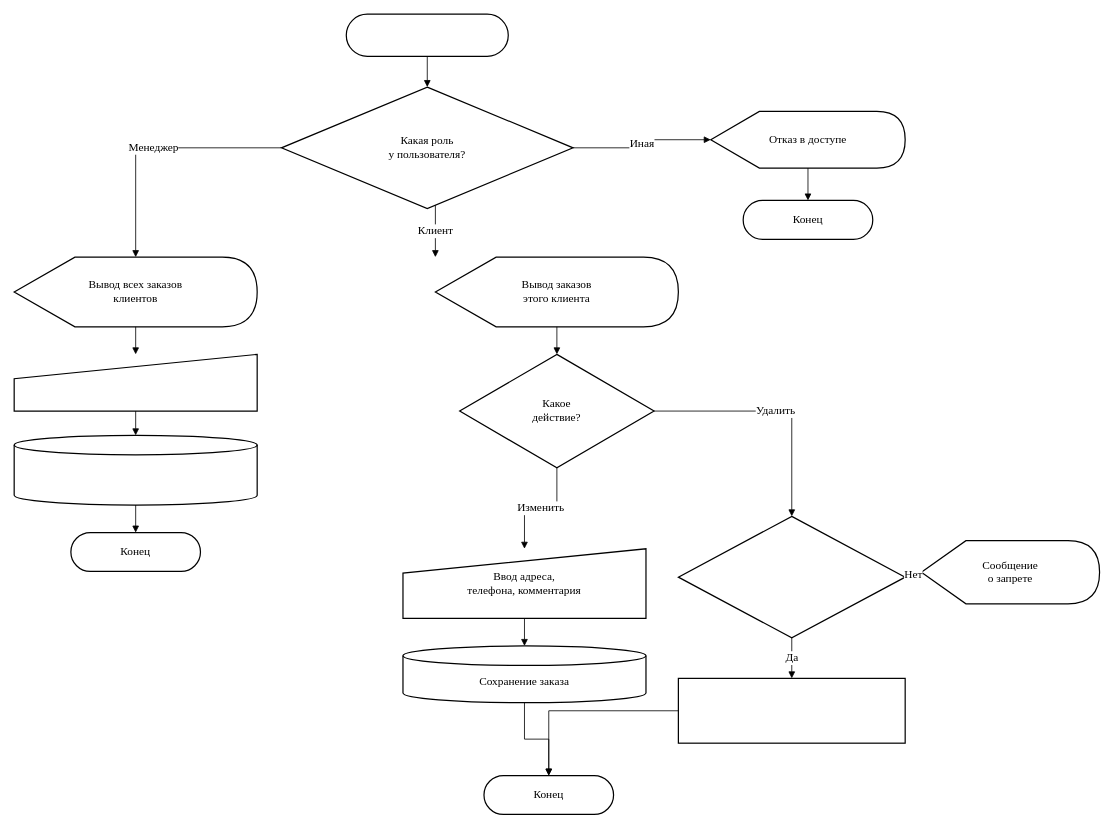
Some shapes in this 1115 by 829 pixel diagram are drawn without their labels. The box of each missing label's shape, as (x1, y1, x2, y2) in pixels:
Ввод нового статуса: (13, 353, 257, 411)
Начало: (345, 13, 509, 57)
Обновление статуса в базе: (13, 434, 257, 505)
Статус позволяет изменить заказ?: (677, 515, 905, 638)
Удаление заказа и позиций: (677, 677, 905, 743)
